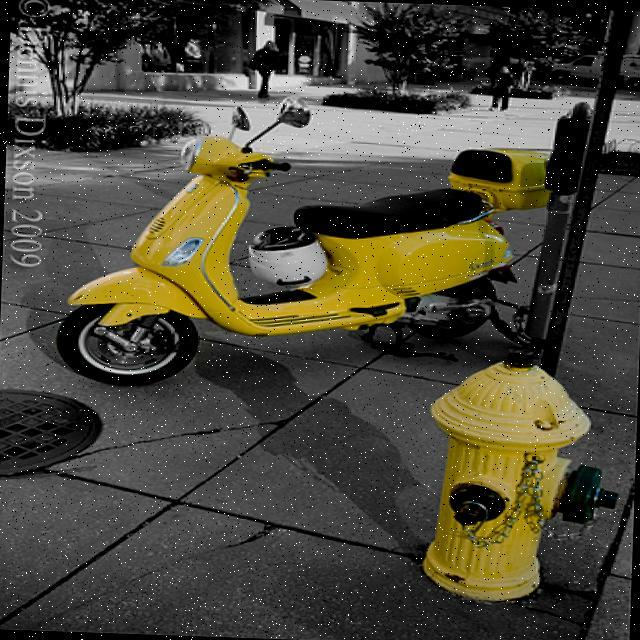fire_hydrant: (417, 328, 630, 606)
